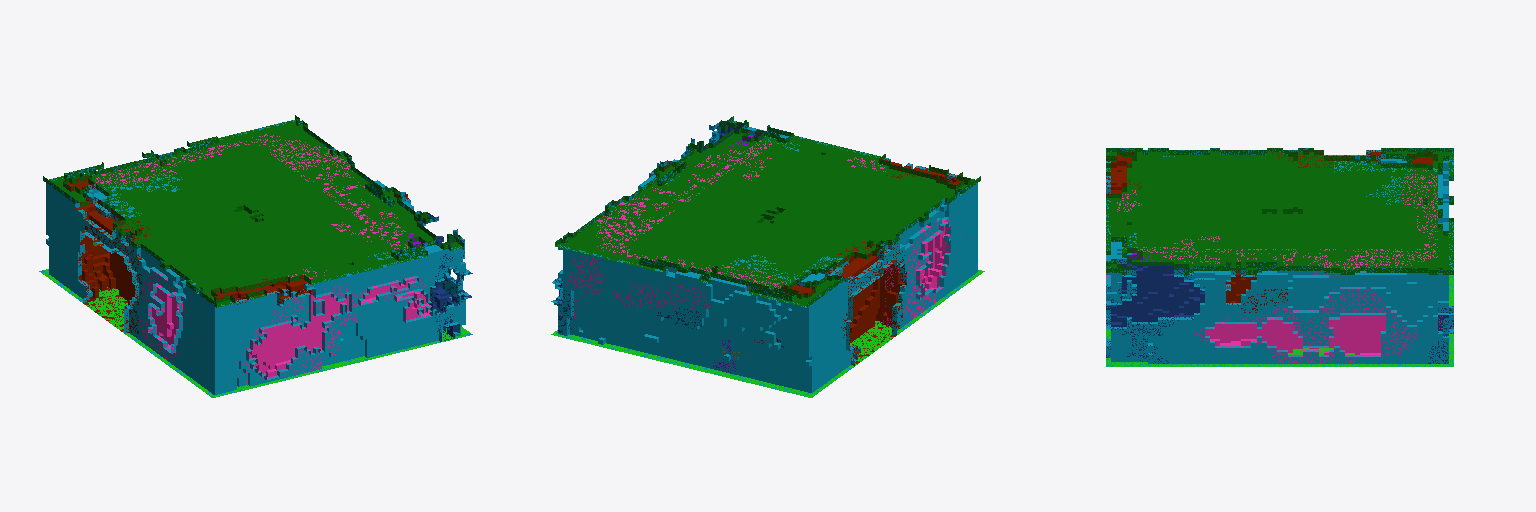
Rendered from Input_prediction.obj.
3 renders of one model, left to right at view 1: azimuth 30°, elevation 25°; view 2: azimuth 150°, elevation 25°; view 3: azimuth 270°, elevation 25°, orthographic.
Parts seen in each view (by area): view 1: Cube; view 2: Cube; view 3: Cube.
Part boxes in pixels (x1,y1,x2,y2): Cube: (39,115,472,397); Cube: (551,116,984,397); Cube: (1106,148,1453,366).
Size of the model in its own units: 4.64 by 1.6 by 5.36.